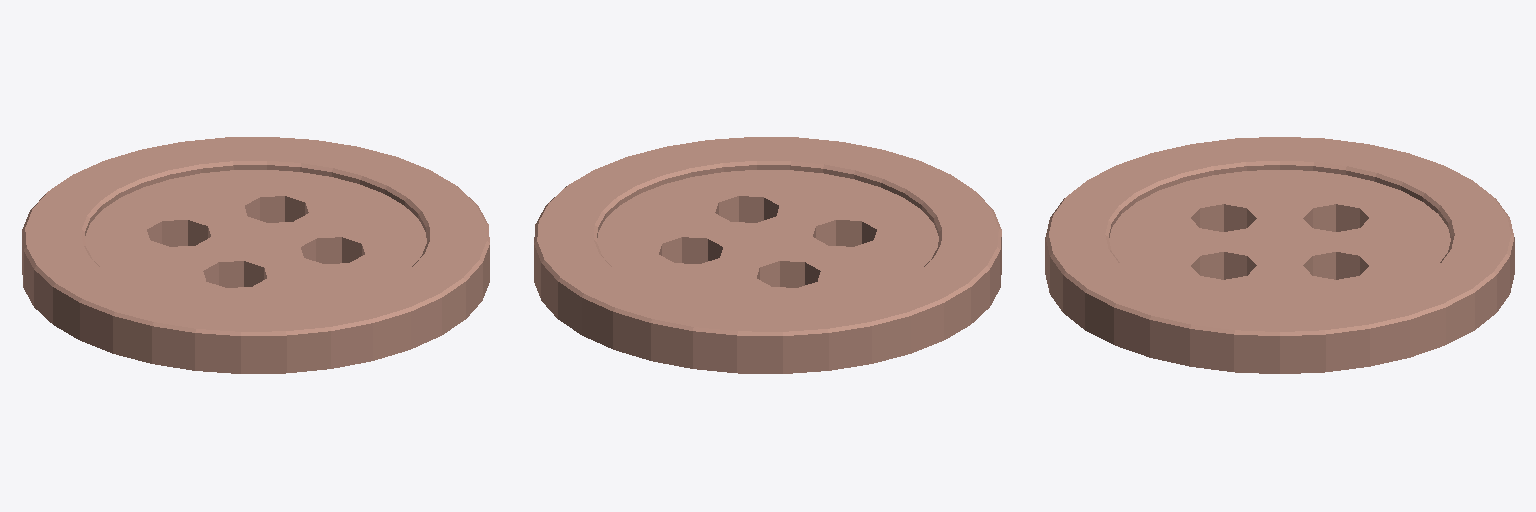
File: button.obj
The picture shows the model from 3 angles: view 1: azimuth 30°, elevation 25°; view 2: azimuth 150°, elevation 25°; view 3: azimuth 270°, elevation 25°; orthographic projection.
Visible parts, largest first — view 1: button.003; view 2: button.003; view 3: button.003.
Part boxes in pixels (left/top/right/bottom): button.003: left=22, top=137, right=489, bottom=373; button.003: left=534, top=137, right=1001, bottom=373; button.003: left=1045, top=137, right=1514, bottom=373.
Bounding box in the file's own units: 0.01 × 0.001 × 0.01.